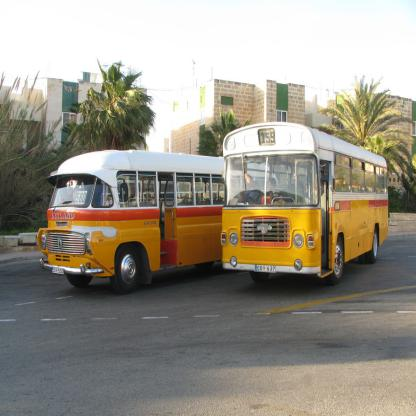Bus: (219, 122, 388, 285), (37, 150, 224, 294)
